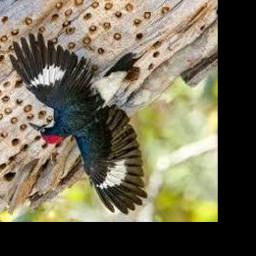Woodpecker: (9, 33, 147, 215)
